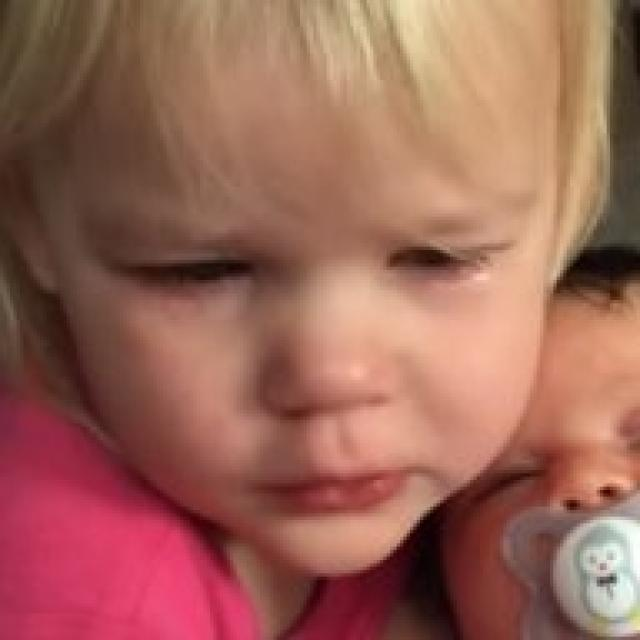Depress: (37, 12, 562, 578)
